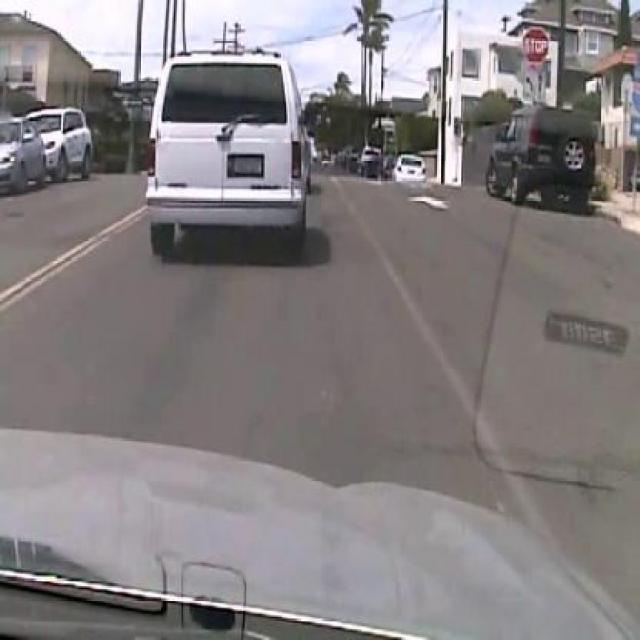Stop: (521, 24, 550, 70)
